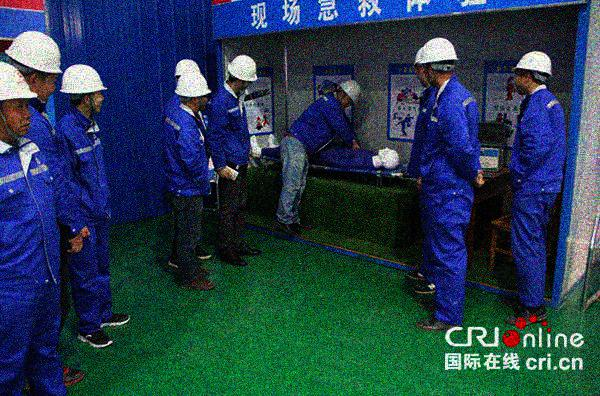helmet: (6, 29, 63, 107), (1, 60, 34, 146), (58, 61, 106, 118), (512, 48, 556, 96), (421, 36, 460, 87), (175, 73, 212, 111), (227, 53, 259, 93), (412, 46, 436, 89), (336, 78, 361, 107), (174, 59, 203, 79)
